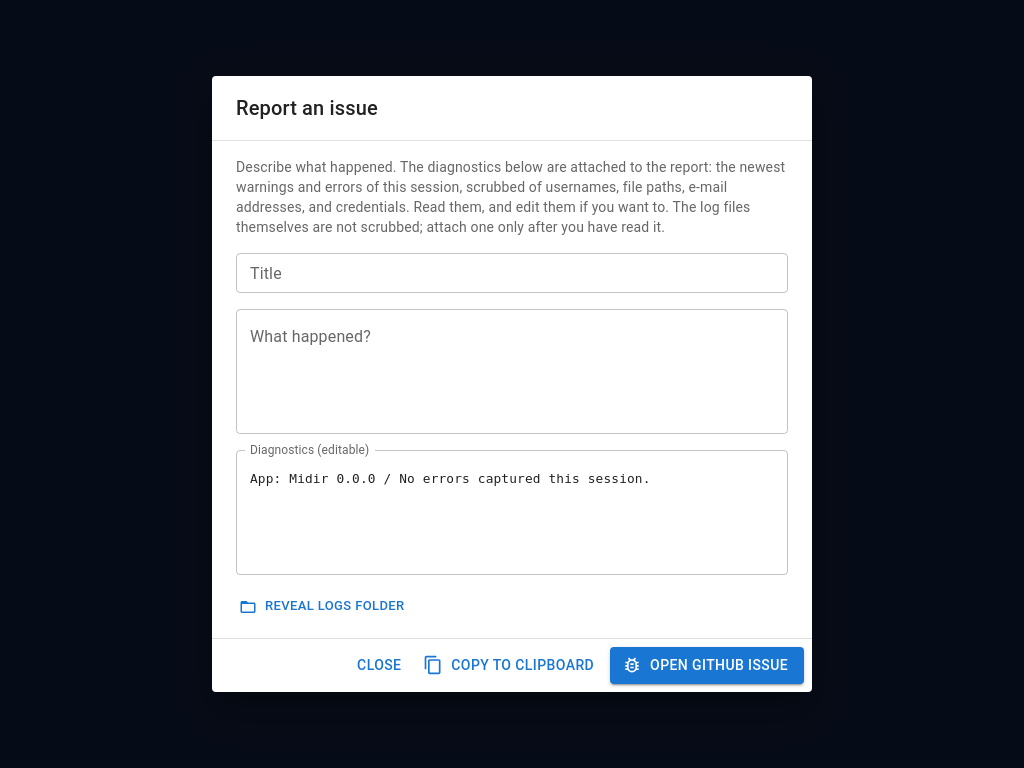
Test case: the report dialog › copies the report without a title, under the default one
Expected: the text box labelled "Diagnostics (editable)" is shown, [250,467,774,559]
What coordinates should you click on to do the following:
click the button "Copy to clipboard"
I would click on:
 (511, 665)
Its box is [419,647,602,684].
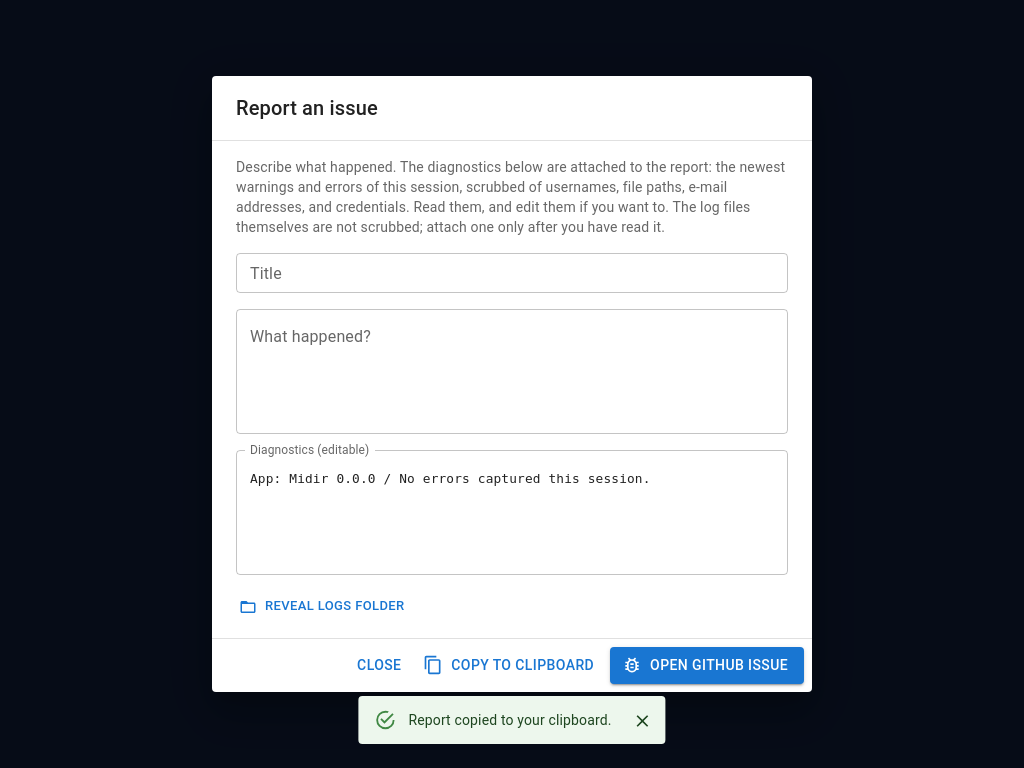
Expected: the text "Report copied to your clipboard." is shown, [408,712,612,728]
